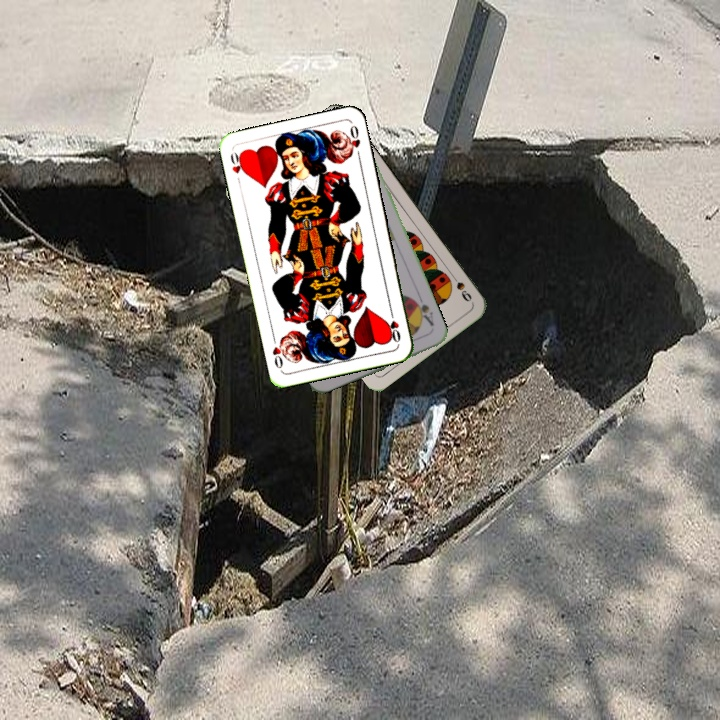HO: (226, 148, 248, 187), (385, 305, 403, 345)
S9: (447, 270, 475, 304)
SA: (410, 293, 437, 329)
